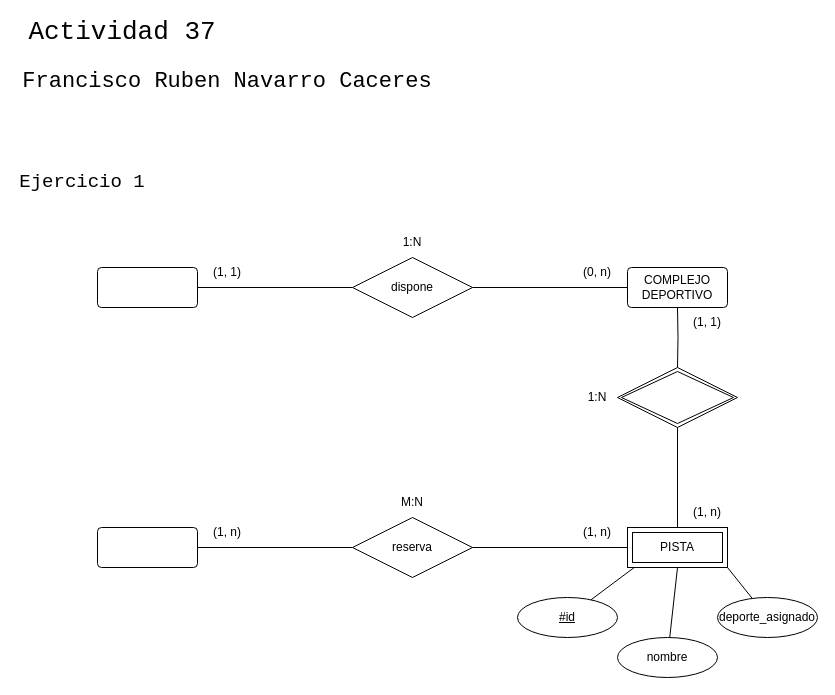
Some shapes in this 835 by 695 pixel diagram are drawn without their labels. Each missing label, with the box of its shape:
AYUNTAMIENTO: (96, 266, 198, 308)
ID dispone: (616, 366, 738, 428)
USUARIO: (96, 526, 198, 568)
